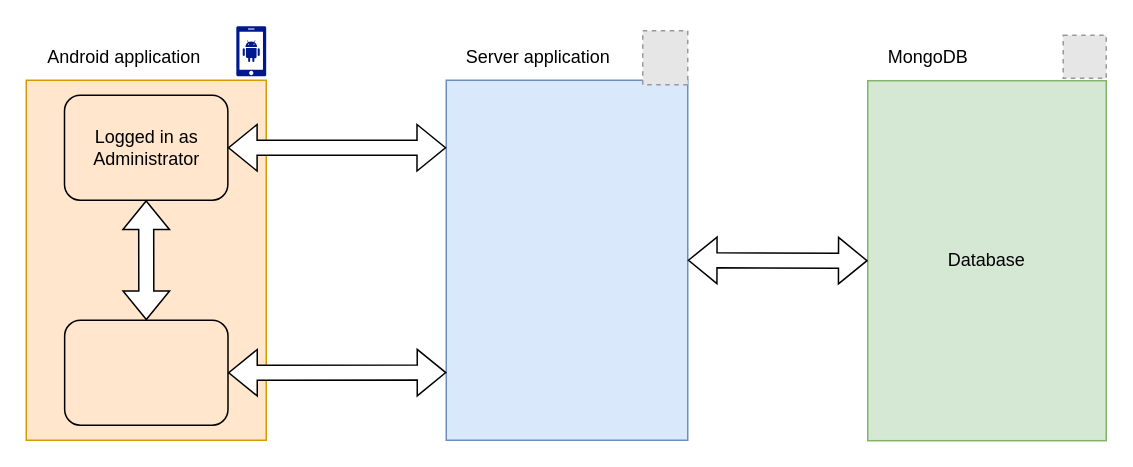
Some shapes in this 1133 by 467 pixel diagram are drawn without their labels. Grey dashed boxes stand in for pictures. Each missing label, with the box of its shape:
Logged in as Client: (63, 319, 228, 425)
Server: (445, 79, 688, 440)
